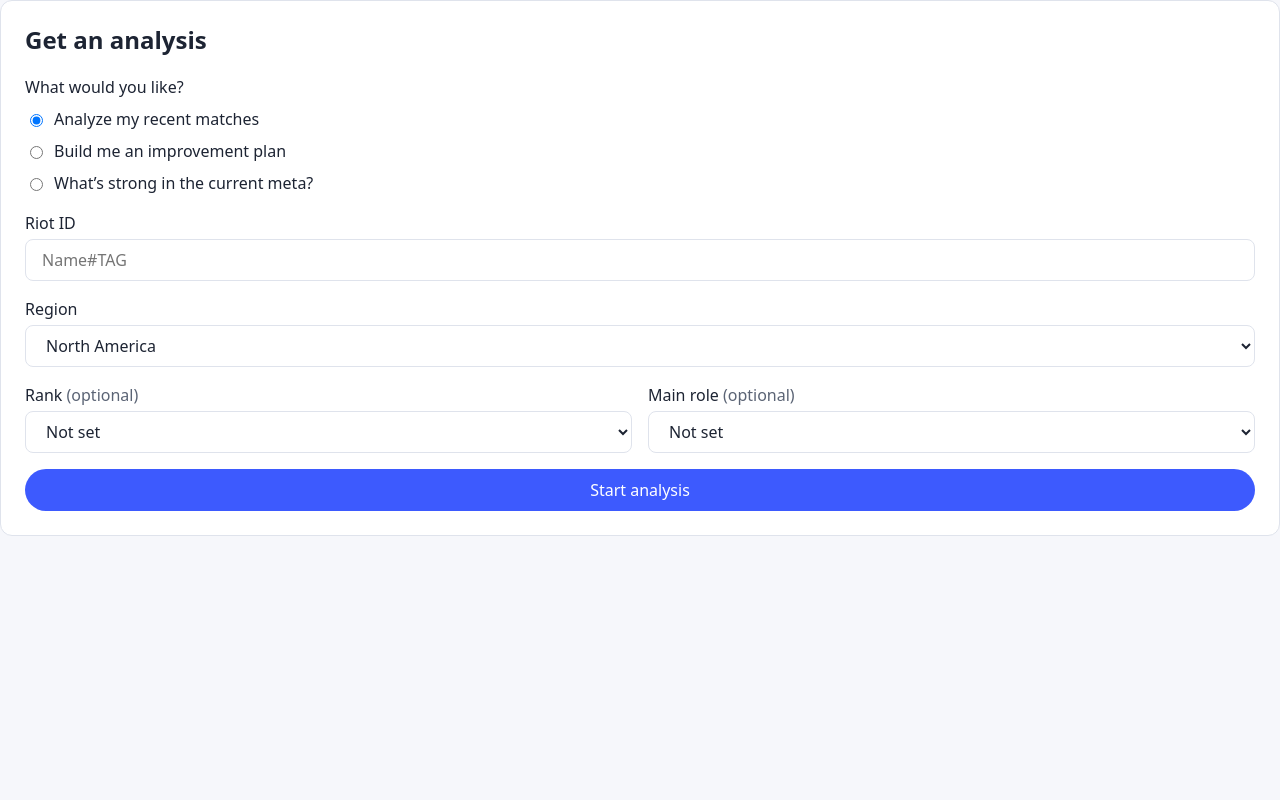
Test: Analysis › stops after repeated polling failures
The width and height of the screenshot is (1280, 800).
Type "Faker#KR1" into the field labelled "Riot ID" at (640, 260), box [25,239,1255,281]
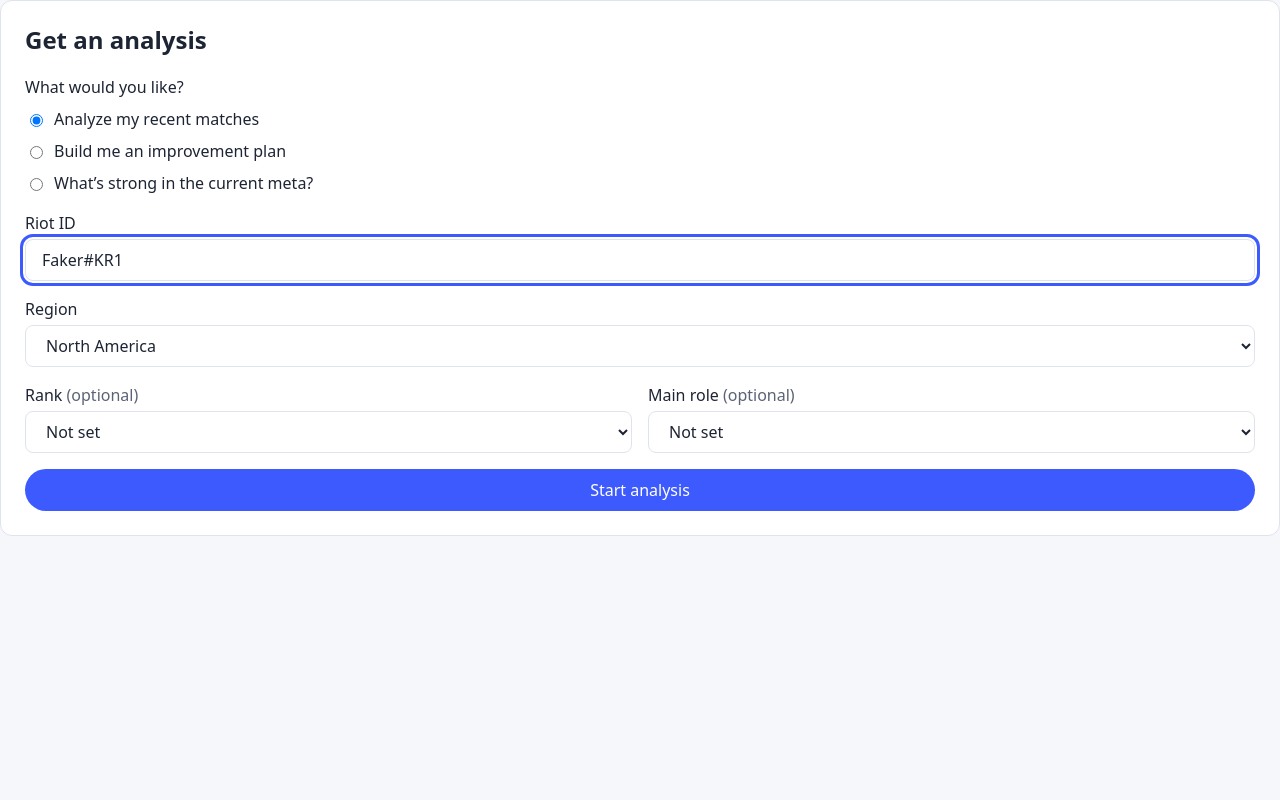
Click the button "Start analysis" at (640, 490), box [25,469,1255,511]
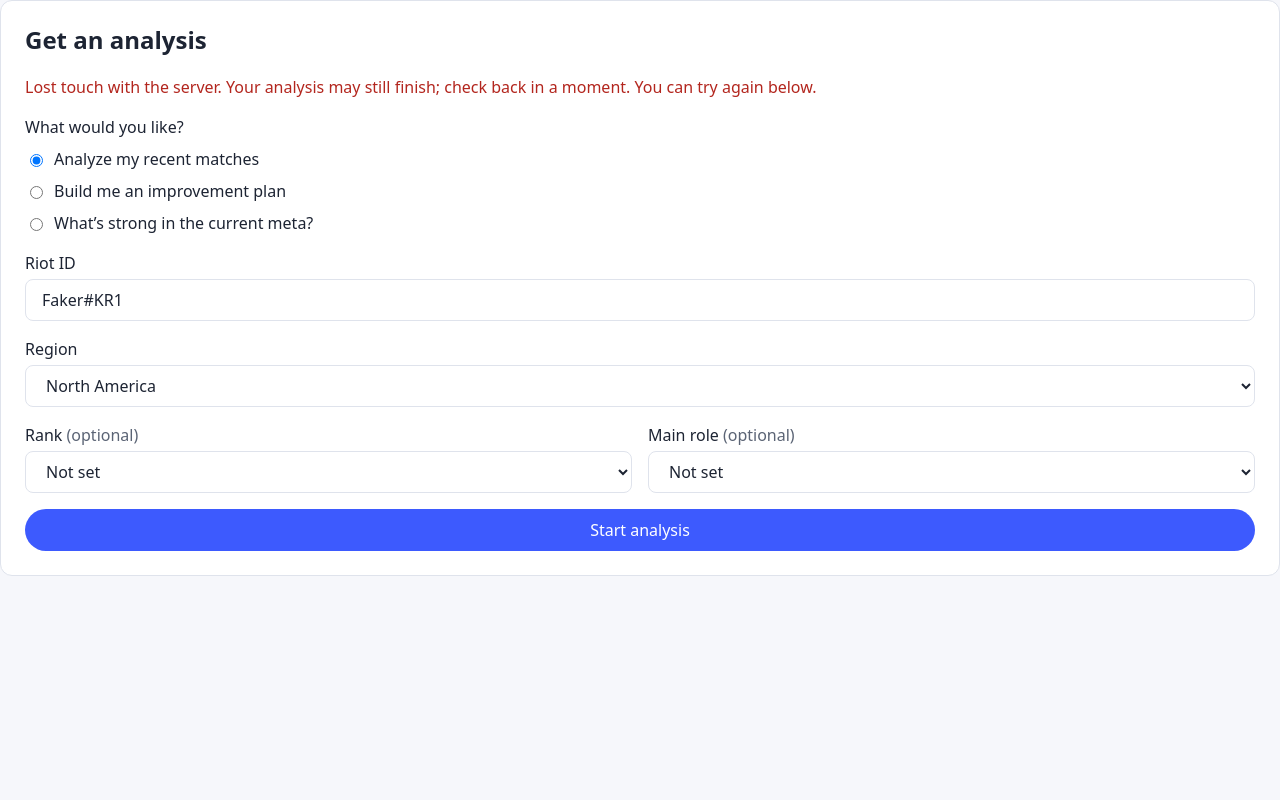
Now the text "Lost touch with the server" is shown, box [25,76,630,98]
